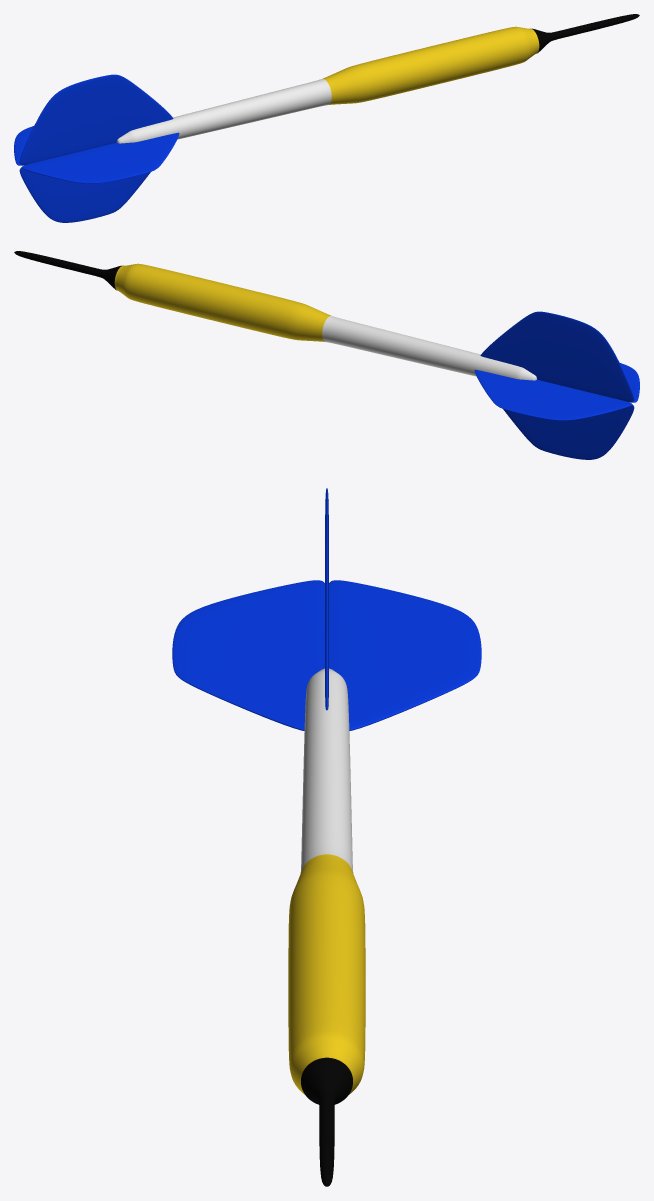
Rendered from Dart.fbx.
3 renders of one model, top to bottom at view 1: azimuth 30°, elevation 25°; view 2: azimuth 150°, elevation 25°; view 3: azimuth 270°, elevation 25°, orthographic. The views are drawn at different scales.
Parts seen in each view (by area): view 1: Circle.001; view 2: Circle.001; view 3: Circle.001.
Part boxes in pixels (x1,y1,x2,y2): Circle.001: [14, 14, 639, 222]; Circle.001: [14, 251, 639, 459]; Circle.001: [172, 488, 481, 1186].
Size of the model in its own units: 675 by 146 by 146.
